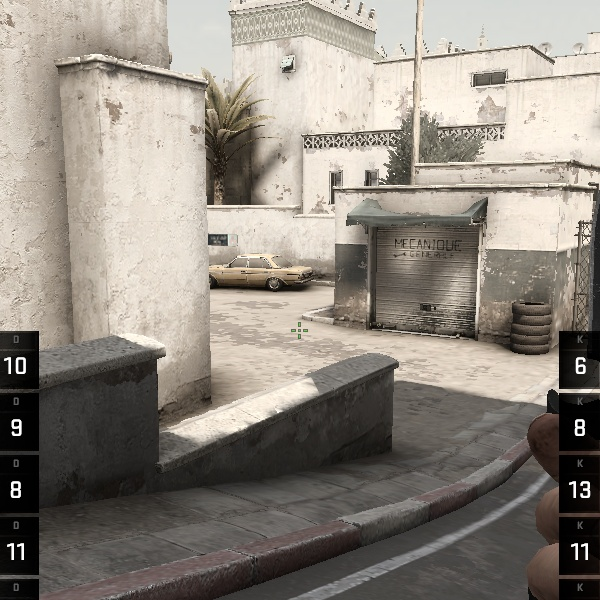t_body: (471, 304, 595, 600)
